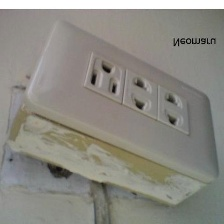three_eye_plug: (3, 17, 223, 215)
